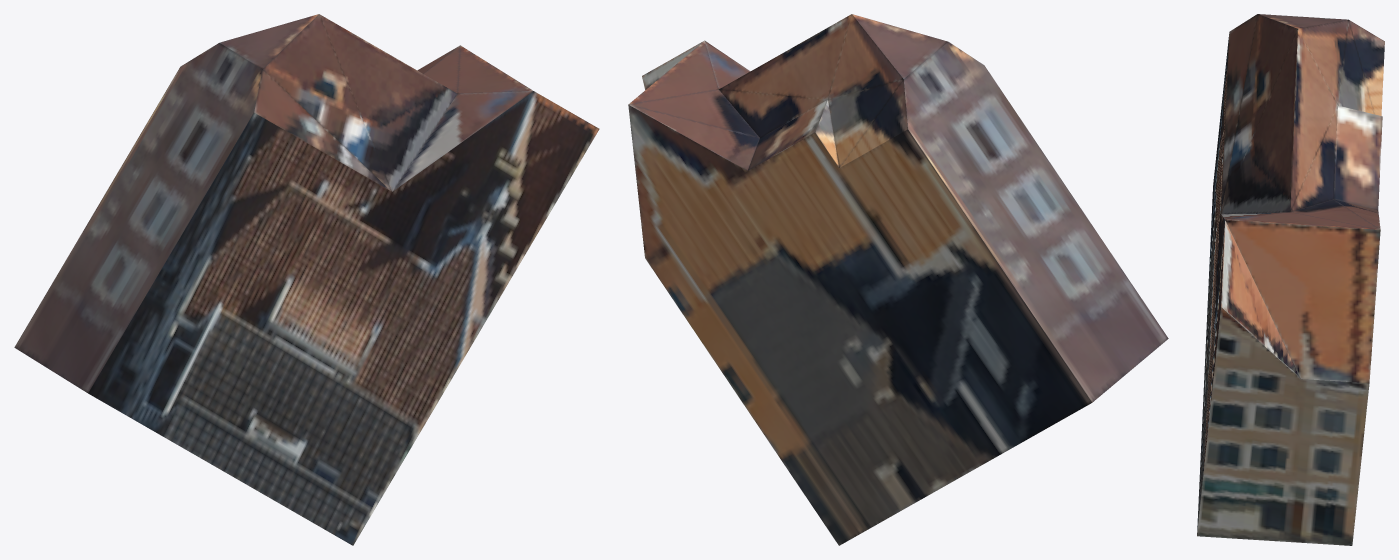
3 renders of one model, left to right at view 1: azimuth 30°, elevation 25°; view 2: azimuth 150°, elevation 25°; view 3: azimuth 270°, elevation 25°, orthographic. The views are drawn at different scales.
Parts seen in each view (by area): view 1: BAG_0599100000760365 (×3); view 2: BAG_0599100000760365 (×5); view 3: BAG_0599100000760365 (×5).
Boxes of the visible parts, x1,y1,x2,y2 form: BAG_0599100000760365 (×3): [14, 14, 599, 545]; BAG_0599100000760365 (×5): [628, 14, 1168, 545]; BAG_0599100000760365 (×5): [1197, 14, 1384, 545].
Bounding box in the file's own units: 25.21 × 23.46 × 7.62.
Materials: 5 (5 with a texture image).
